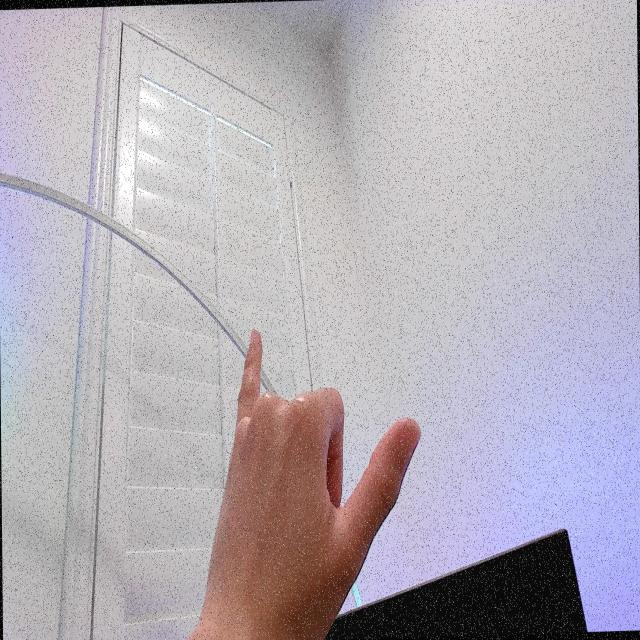Y: (205, 319, 422, 620)
